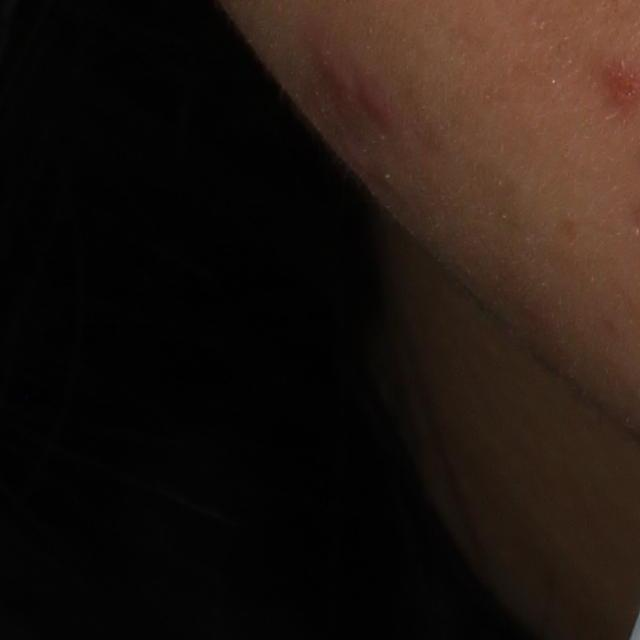papule: (362, 78, 396, 137)
